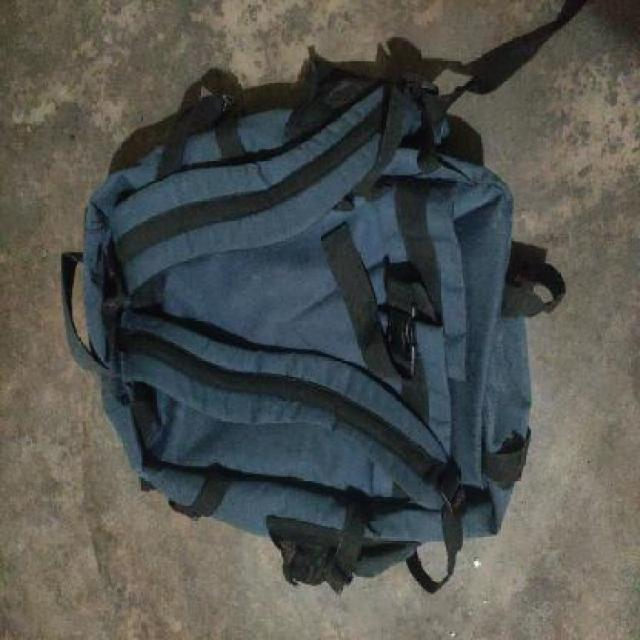backpack: (57, 43, 569, 599)
